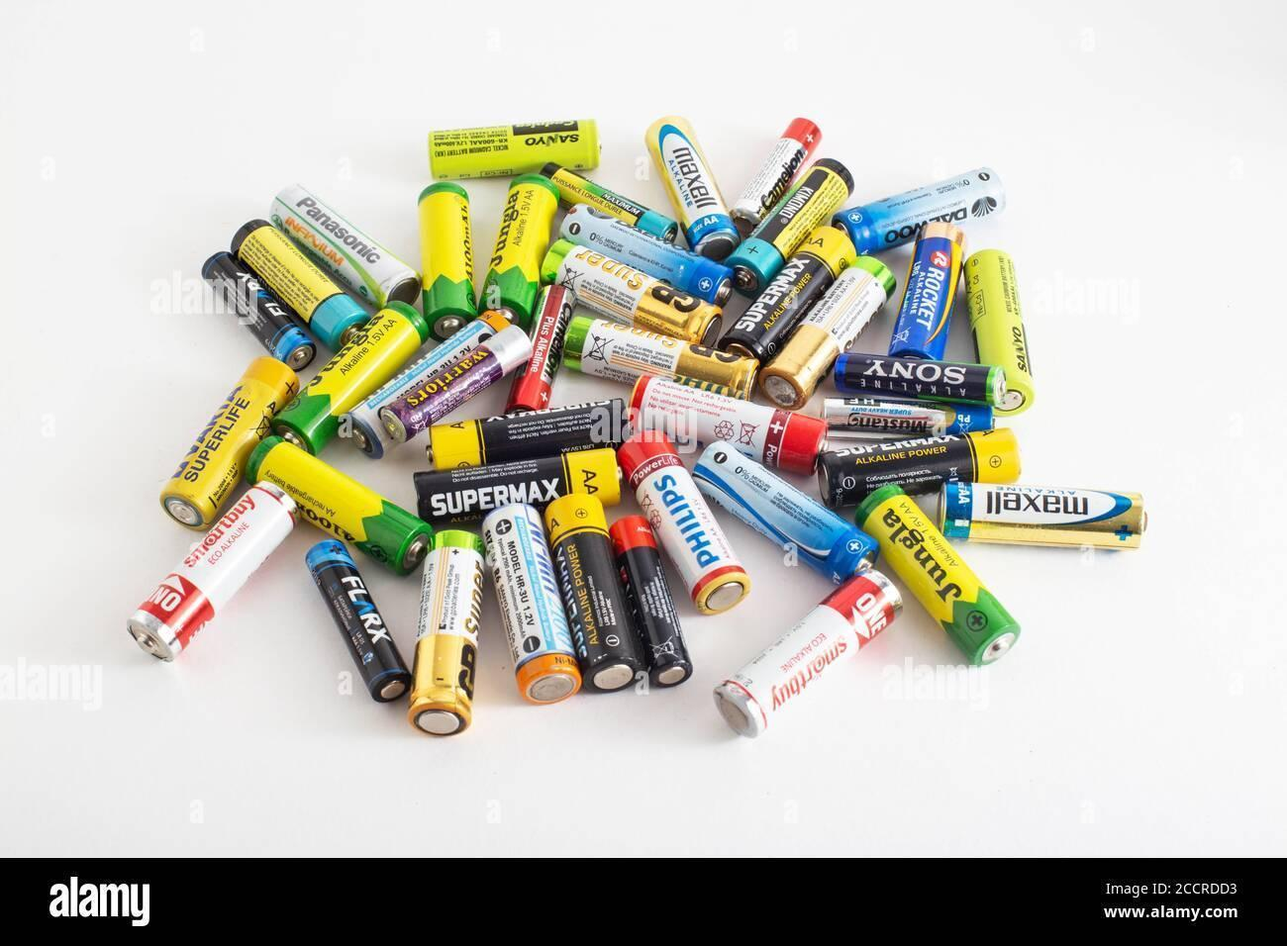AA: (711, 563, 908, 743), (124, 477, 308, 669), (849, 478, 1029, 673), (686, 432, 887, 589), (239, 432, 436, 577), (616, 427, 758, 619), (270, 296, 433, 461), (157, 353, 302, 536), (759, 250, 902, 414), (478, 499, 585, 712), (537, 235, 728, 354), (543, 488, 644, 697), (718, 154, 861, 298), (267, 181, 423, 312), (227, 217, 376, 354), (300, 537, 413, 706), (404, 525, 487, 746), (931, 478, 1152, 555), (639, 113, 741, 263), (960, 246, 1039, 421), (477, 170, 562, 330), (424, 114, 607, 187), (415, 177, 480, 341)
